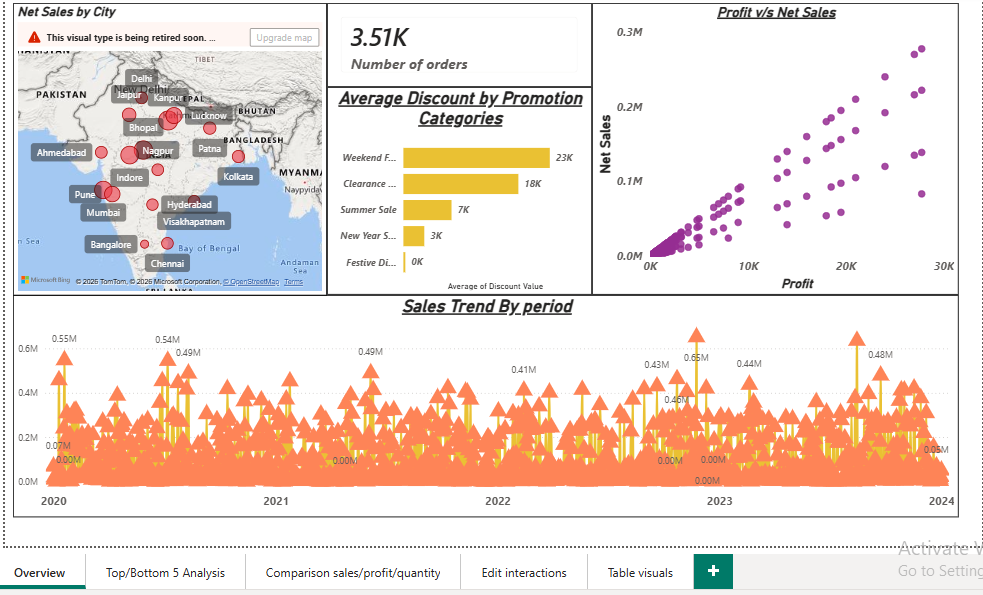

This screenshot's page, from the dashboard's own definition file:
{"tool":"powerbi","page":{"name":"Overview","canvas":[1280,720],"ordinal":0},"visuals":[{"type":"lineChart","title":" Sales Trend By period","fields":{"Category":["Fact Table.Date (dd/mm/yyyy).Variation.Date Hierarchy.Year"],"Y":["Sum(Fact Table.Net Sales)"]},"box":[10.1,391.7,1238.4,290.9],"z":0},{"type":"scatterChart","title":"Profit v/s Net Sales","fields":{"X":["Fact Table.Profit"],"Y":["Fact Table.Net Sales"]},"box":[769,0,479.5,391.7],"z":1000},{"type":"barChart","title":"Average Discount by Promotion Categories","fields":{"Y":["Avg(Fact Table.Discount Value)"],"Category":["Dim Promotion.Promotion Name"]},"box":[421.9,119.5,347,272.2],"z":2000},{"type":"map","title":"Sales by City","fields":{"Category":["Dim Customers.City"],"Size":["Sum(Fact Table.Net Sales)"]},"box":[10,39,399,353],"z":2001},{"type":"cardVisual","fields":{"Data":["CountNonNull(Fact Table.Order ID)"]},"box":[421.9,0,347,108],"z":2002}]}

Visuals, with their boxes in screenshot pixels (x1, y1, x2, y2):
" Sales Trend By period" lineChart: l=15, t=294, r=953, b=514
"Profit v/s Net Sales" scatterChart: l=590, t=0, r=953, b=294
"Average Discount by Promotion Categories" barChart: l=327, t=88, r=590, b=294
"Sales by City" map: l=15, t=27, r=317, b=294
cardVisual - CountNonNull(Fact Table.Order ID): l=327, t=0, r=590, b=79
